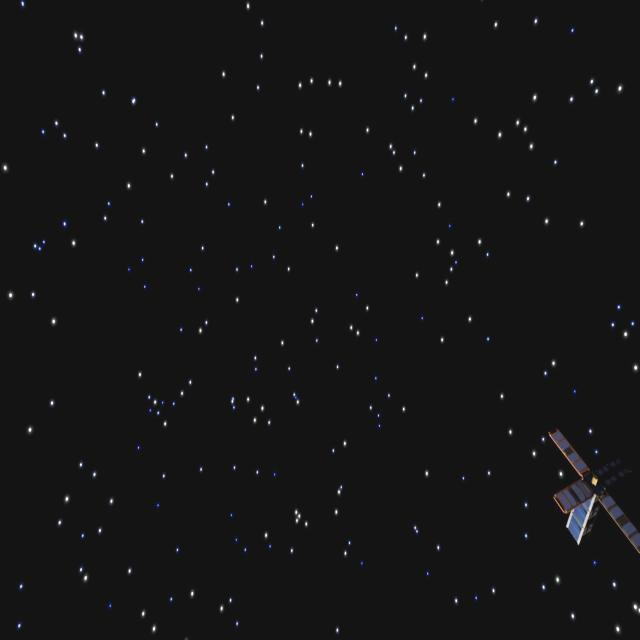medium_debris: (554, 417, 640, 580)
